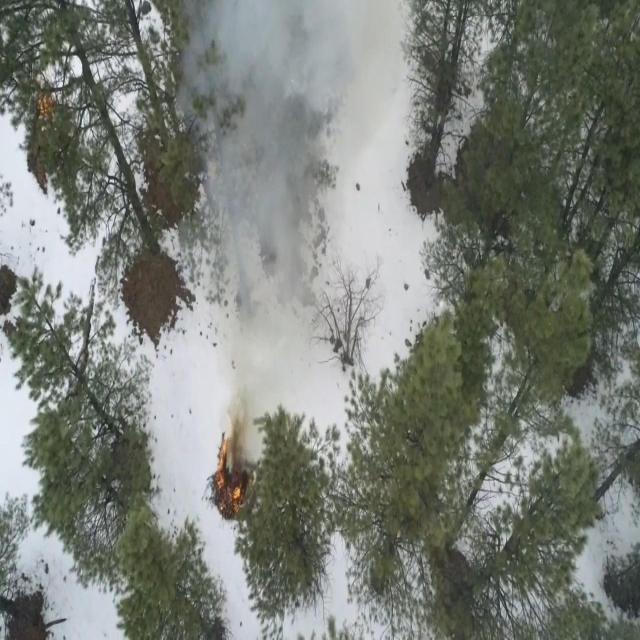Fire: (211, 432, 252, 514)
Smoke: (194, 0, 378, 416)
